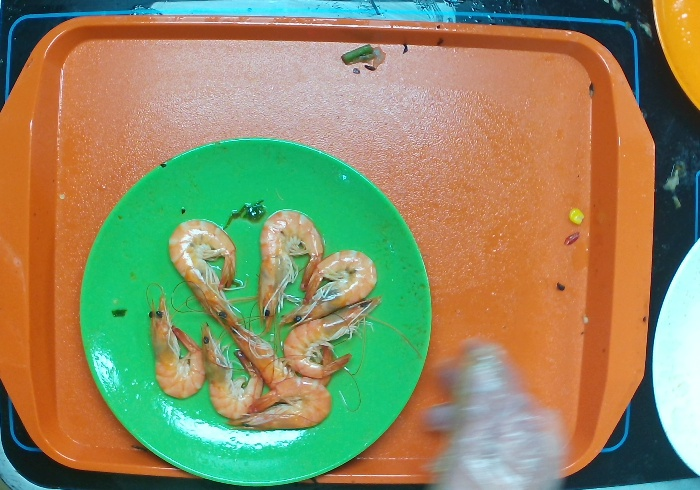HZYJPL-Lv_Se_Yuan_Pan: (78, 136, 433, 488)
